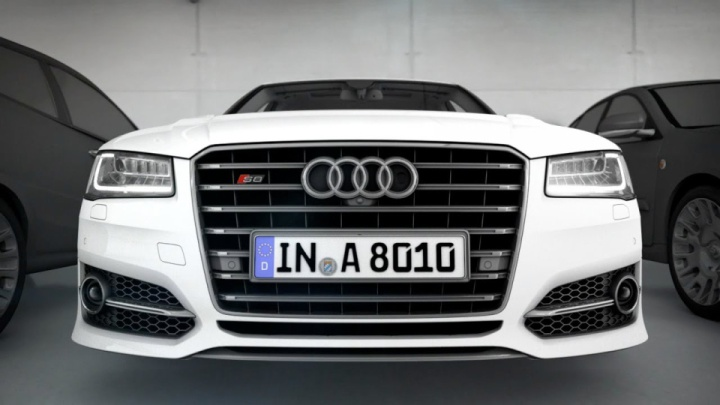audi: (294, 156, 425, 202)
